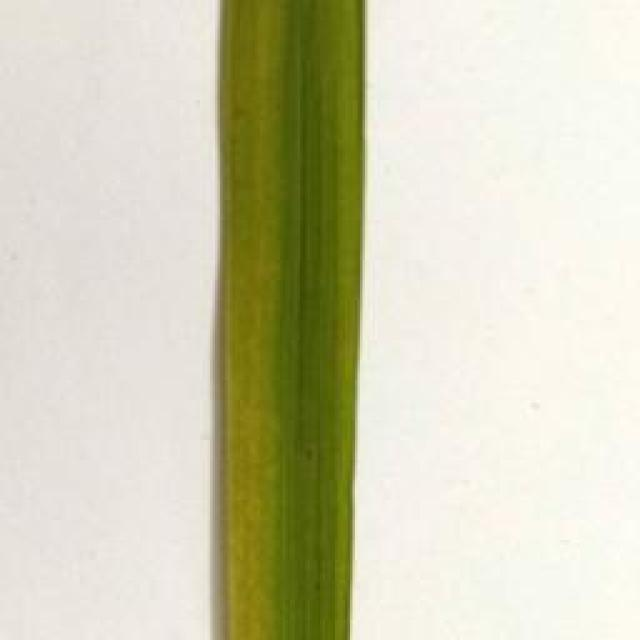Healthy-Plant: (224, 0, 364, 640)
